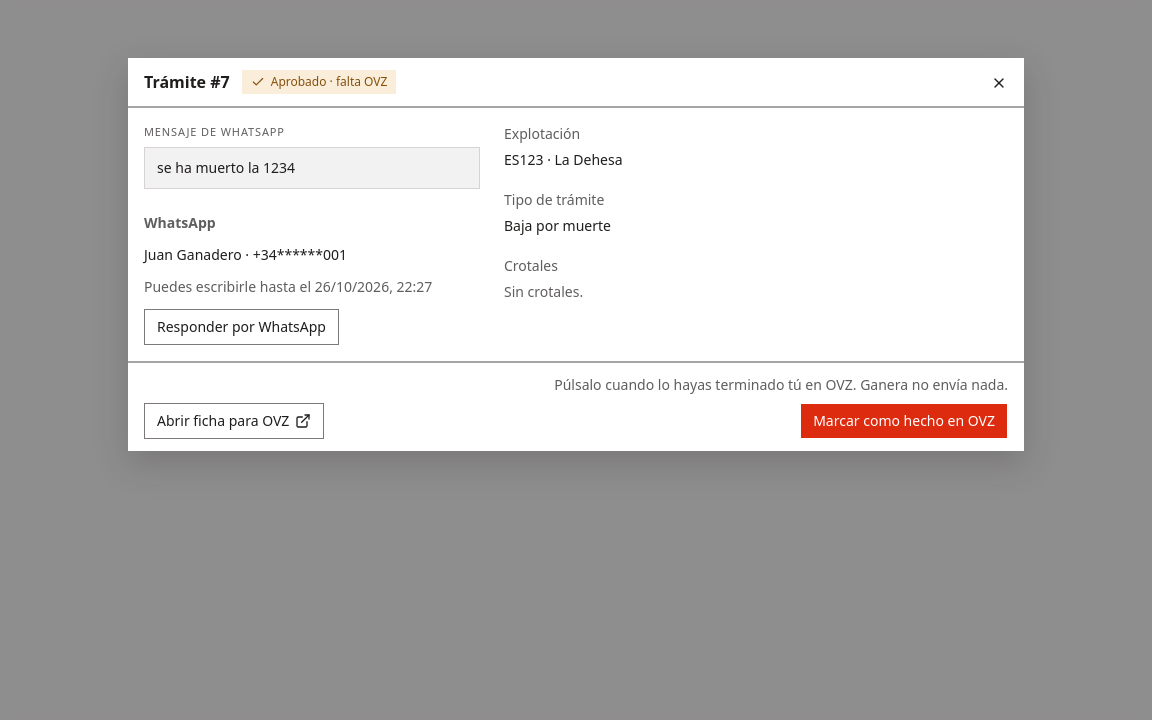
Scenario: Sección WhatsApp: el panel › vacío: «Escribe el texto de la respuesta.» y Enviar desactivado
Expected: the heading "Mensaje de WhatsApp" is shown, left=144, top=124, right=285, bottom=139
Click the button "Responder por WhatsApp": (241, 327) left=144, top=309, right=339, bottom=345
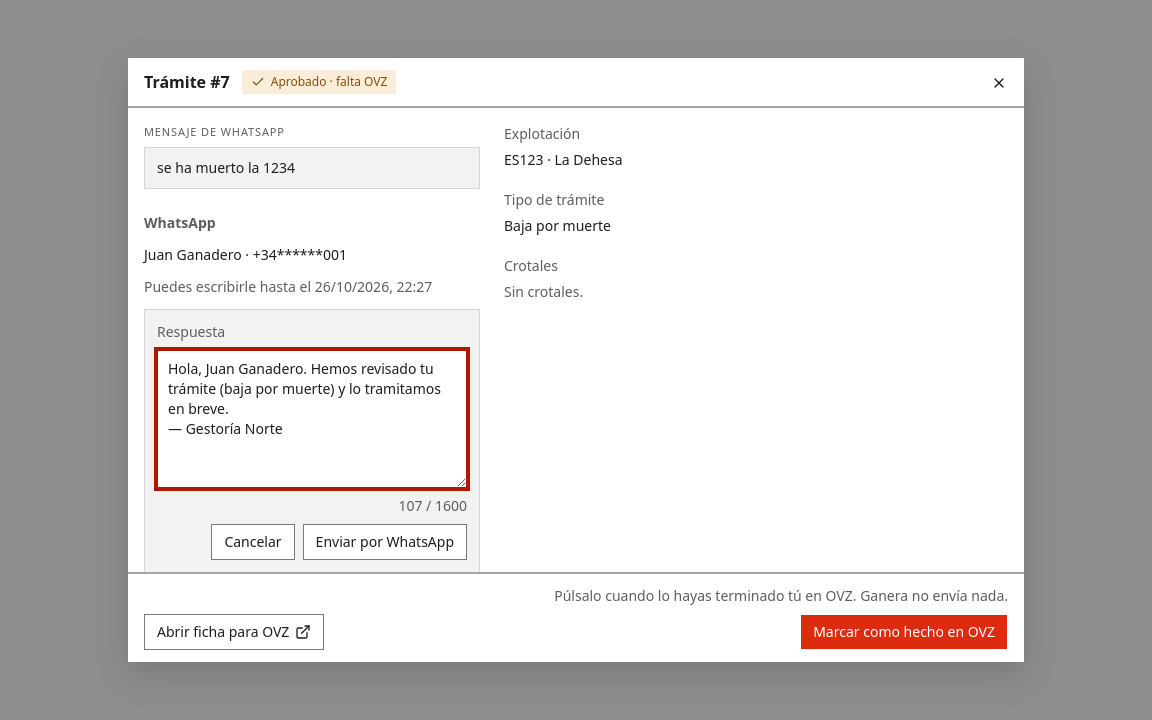
Clear the text box labelled "Respuesta": (312, 419) left=157, top=350, right=467, bottom=488
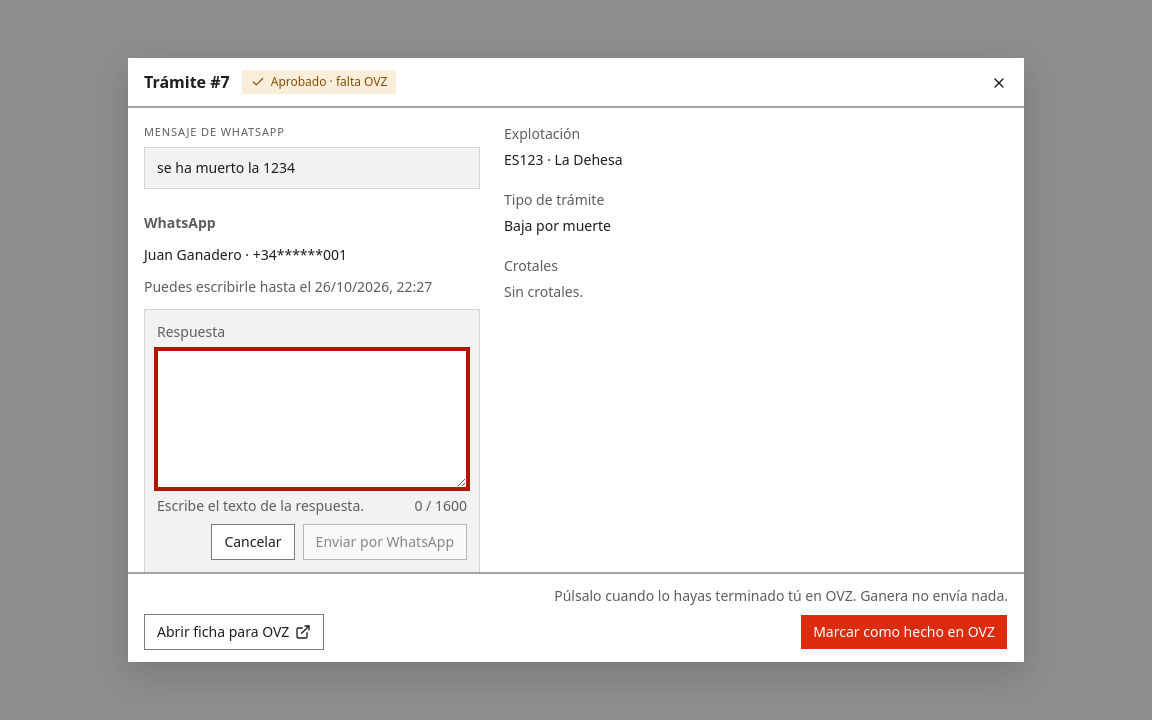
Now the text "Escribe el texto de la respuesta." is shown, box left=157, top=496, right=364, bottom=516
Now the button "Enviar por WhatsApp" is disabled, box left=303, top=524, right=467, bottom=560
